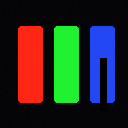4 line_v: (100, 58, 106, 110)
